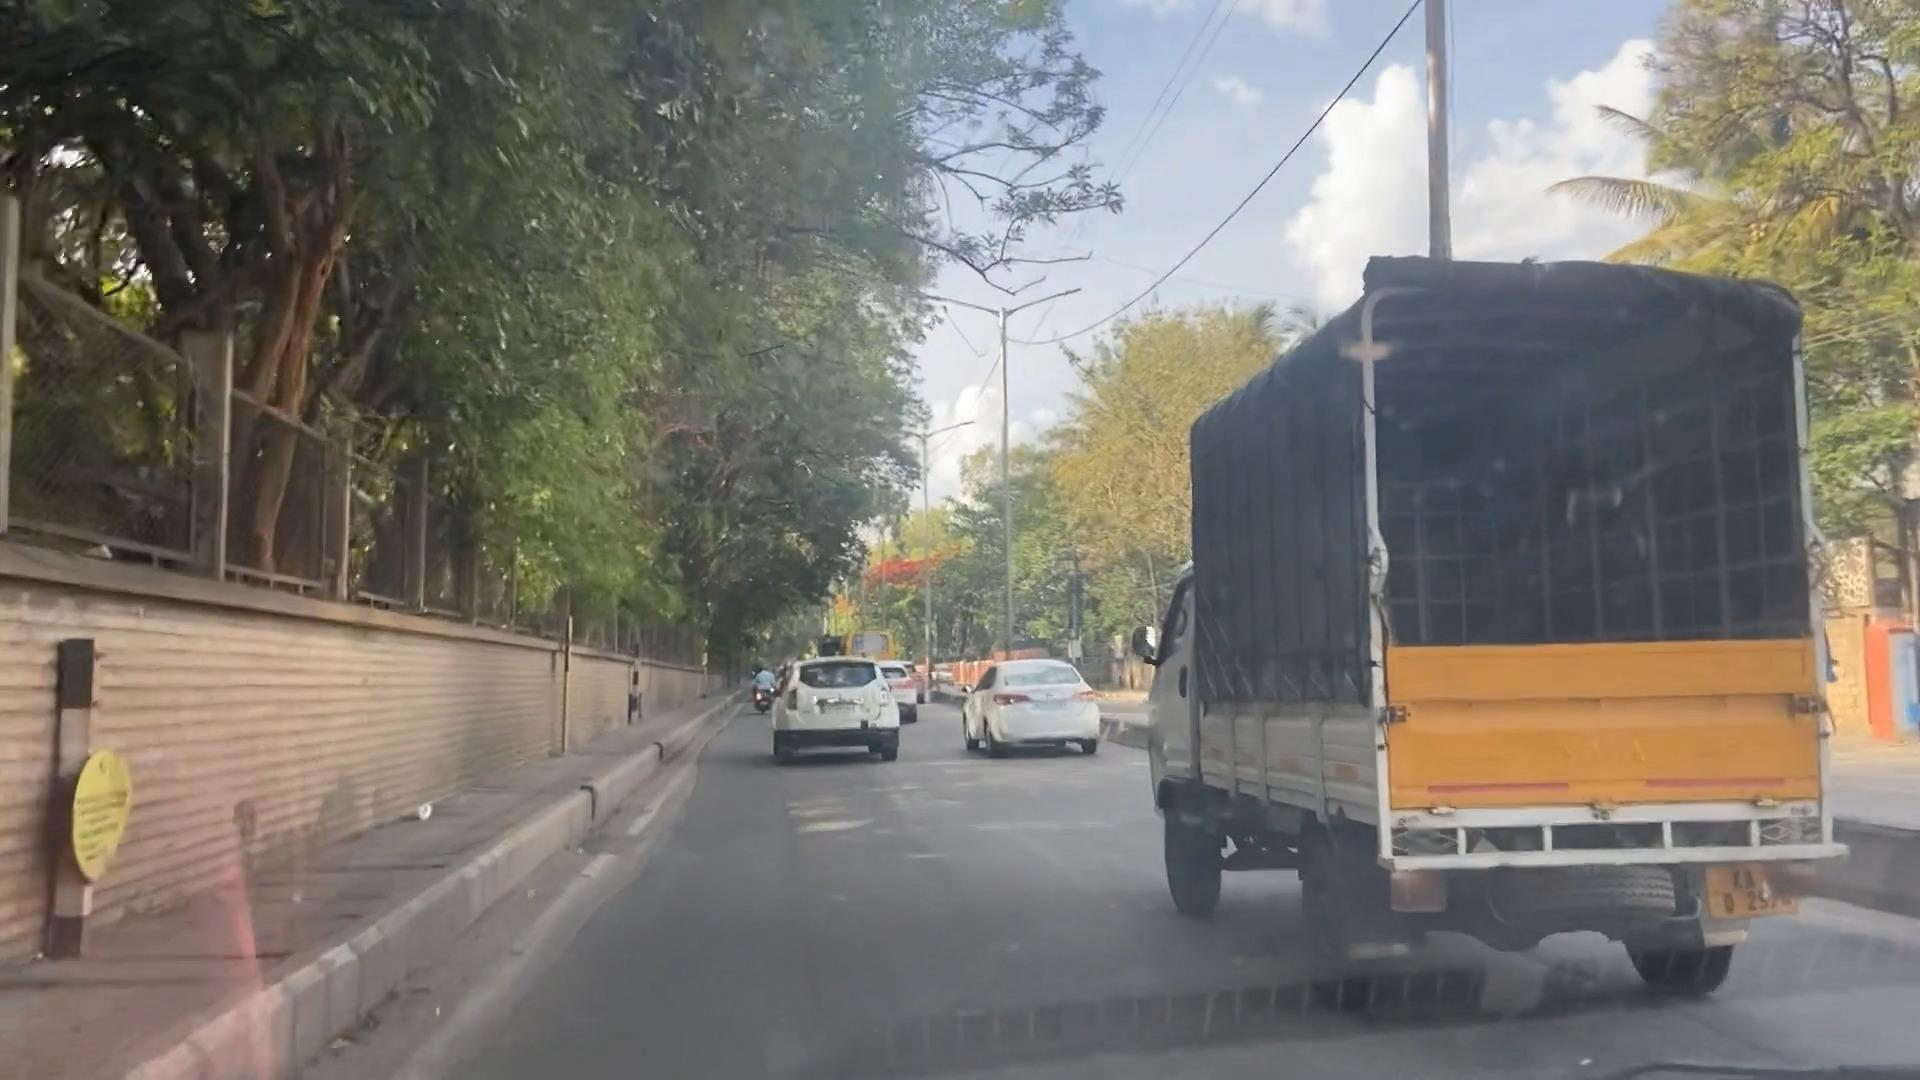HMV: (1160, 251, 1820, 992)
LMV: (773, 650, 902, 762)
